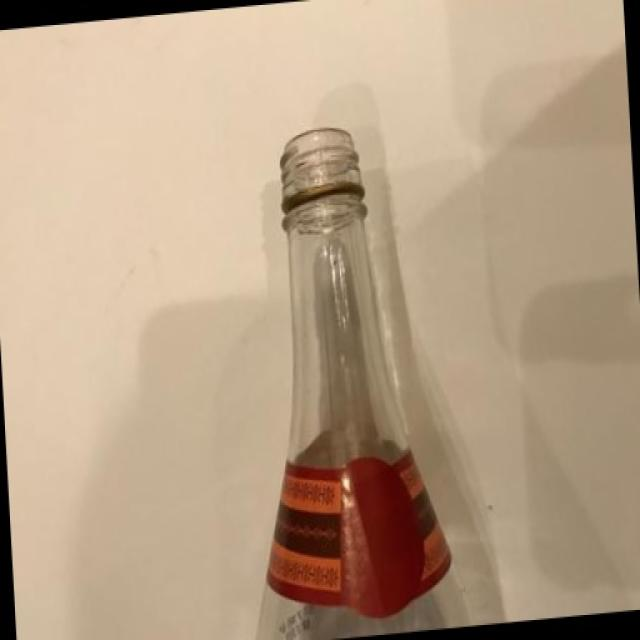vidrio: (195, 43, 503, 627)
